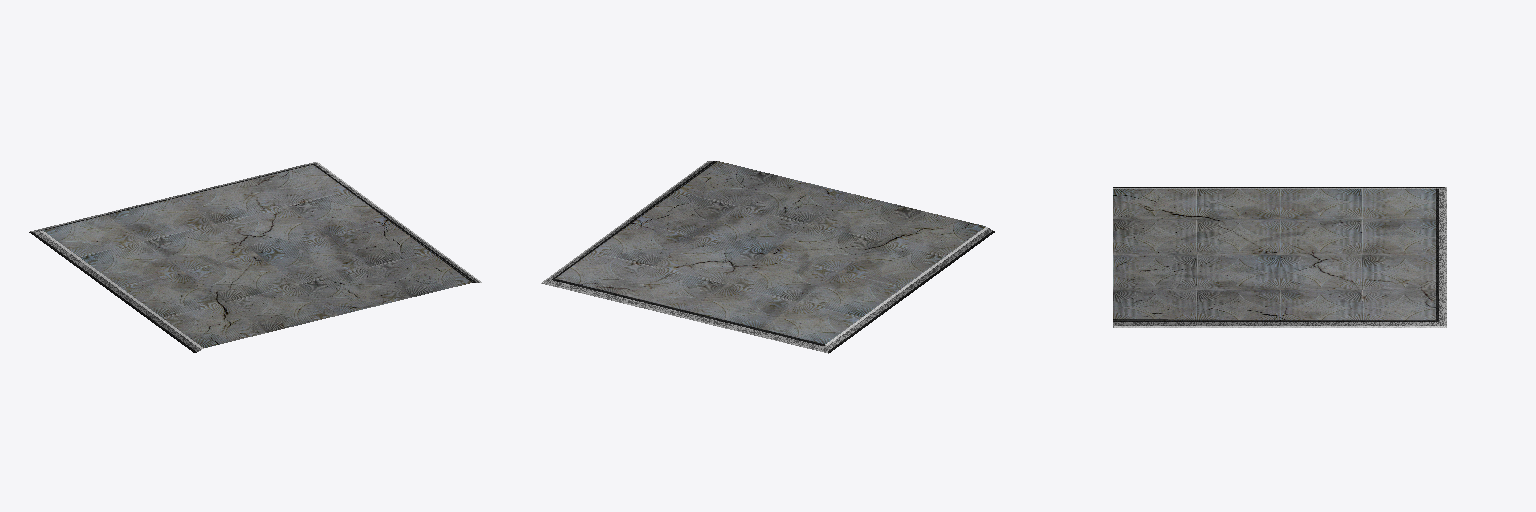
3 renders of one model, left to right at view 1: azimuth 30°, elevation 25°; view 2: azimuth 150°, elevation 25°; view 3: azimuth 270°, elevation 25°, orthographic.
Visible parts, largest first — view 1: Cube; view 2: Cube; view 3: Cube.
Part boxes in pixels (x1,y1,x2,y2): Cube: (29, 162, 481, 352); Cube: (541, 161, 994, 353); Cube: (1113, 187, 1446, 327).
Bounding box in the file's own units: 4.51 × 0.0479 × 4.51.
1 materials, 1 textured.